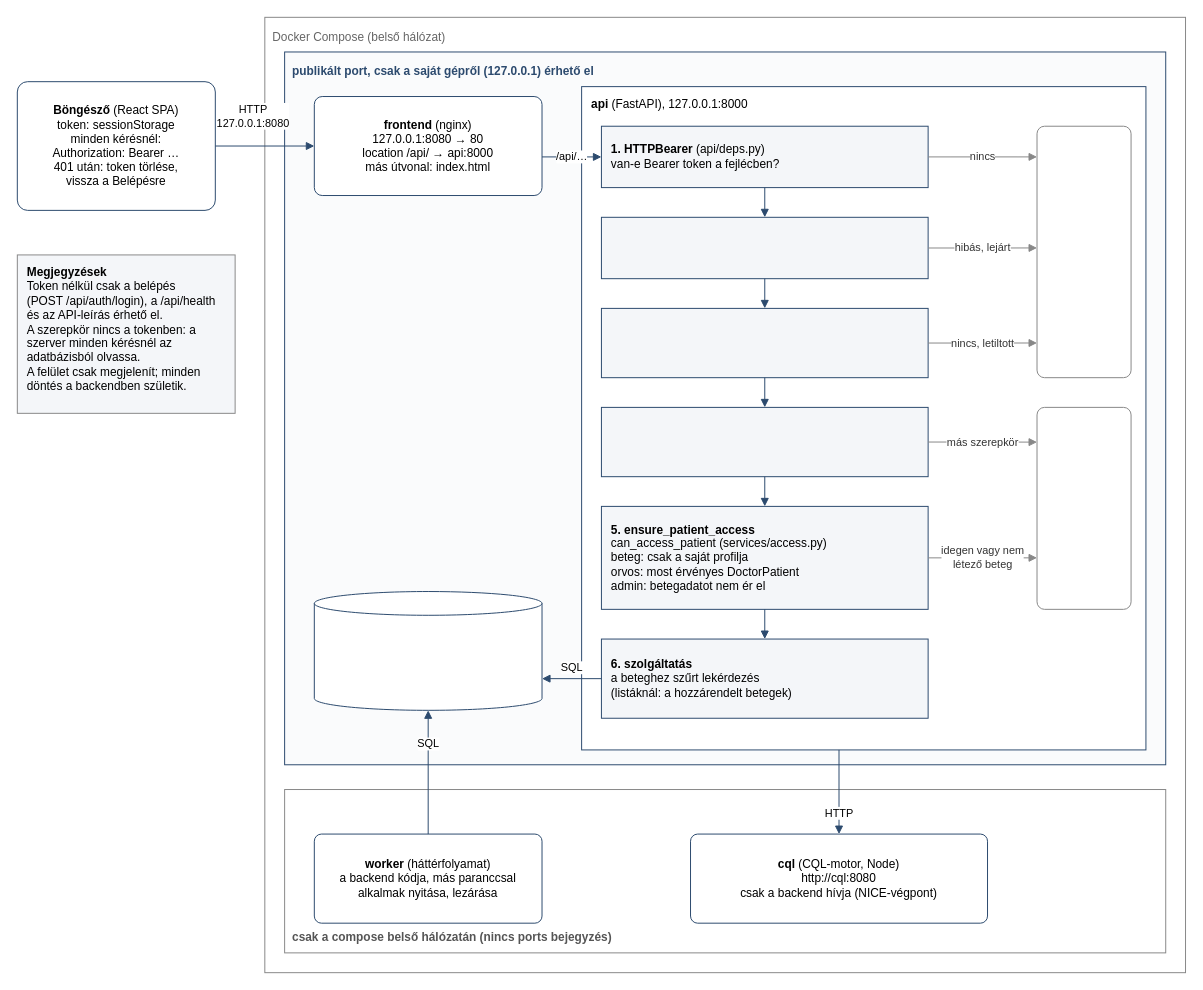
The diagram is 1203 pixels wide and 990 high, and some of its shapes have lost their labels. The shapes that lost their labels are listed below. From the top down, each one's centre as x and y in pixels, then its label:
At (x=764, y=247): "2. decode_access_token (core/security.py) HS256-aláírás, lejárat (exp), sub".
At (x=1083, y=251): "401 Not authenticated".
At (x=764, y=342): "3. get_current_user felhasználó betöltése az adatbázisból, is_active ellenőrzése".
At (x=764, y=441): "4. require_roles a végpont szerepköre: PatientUser / DoctorUser / AdminUser".
At (x=1083, y=507): "403 Forbidden".
At (x=427, y=650): "db (PostgreSQL 17) 127.0.0.1:5432".
